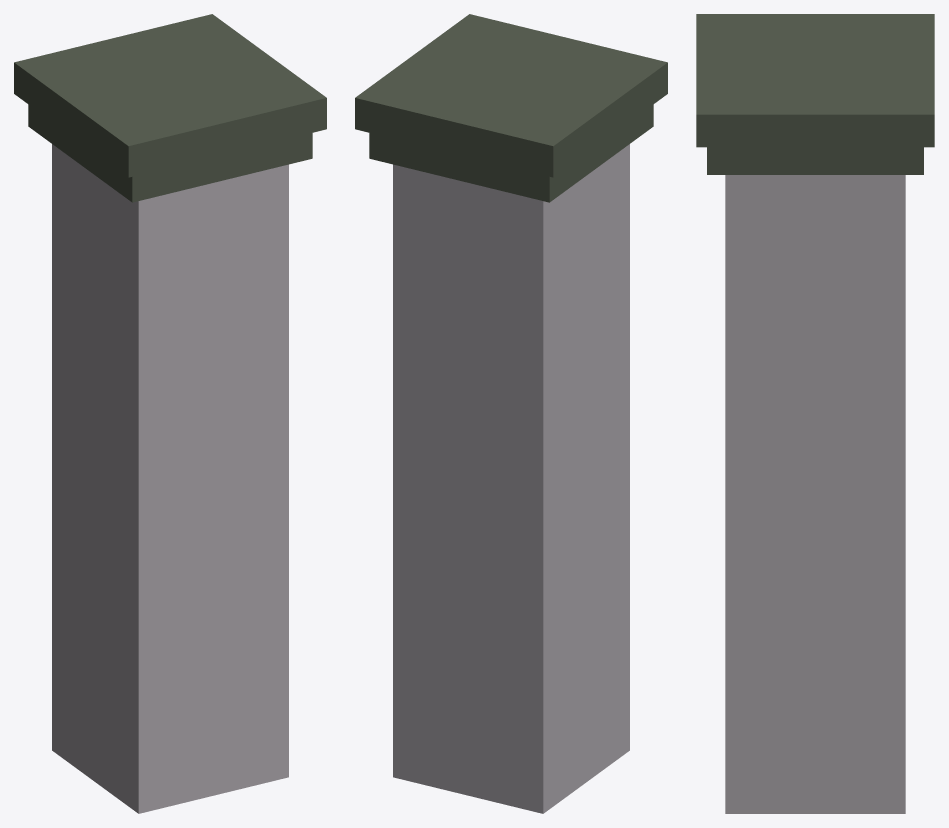
The model's file is fences2.fbx.
3 views of the same model, side by side, from view 1: azimuth 30°, elevation 25°; view 2: azimuth 150°, elevation 25°; view 3: azimuth 270°, elevation 25° (orthographic). The views are drawn at different scales.
Parts seen in each view (by area): view 1: Fences.001; view 2: Fences.001; view 3: Fences.001.
Boxes of the visible parts, x1,y1,x2,y2 form: Fences.001: [14, 14, 326, 813]; Fences.001: [355, 14, 667, 813]; Fences.001: [696, 14, 934, 813].
Bounding box in the file's own units: 66 × 217 × 66.
